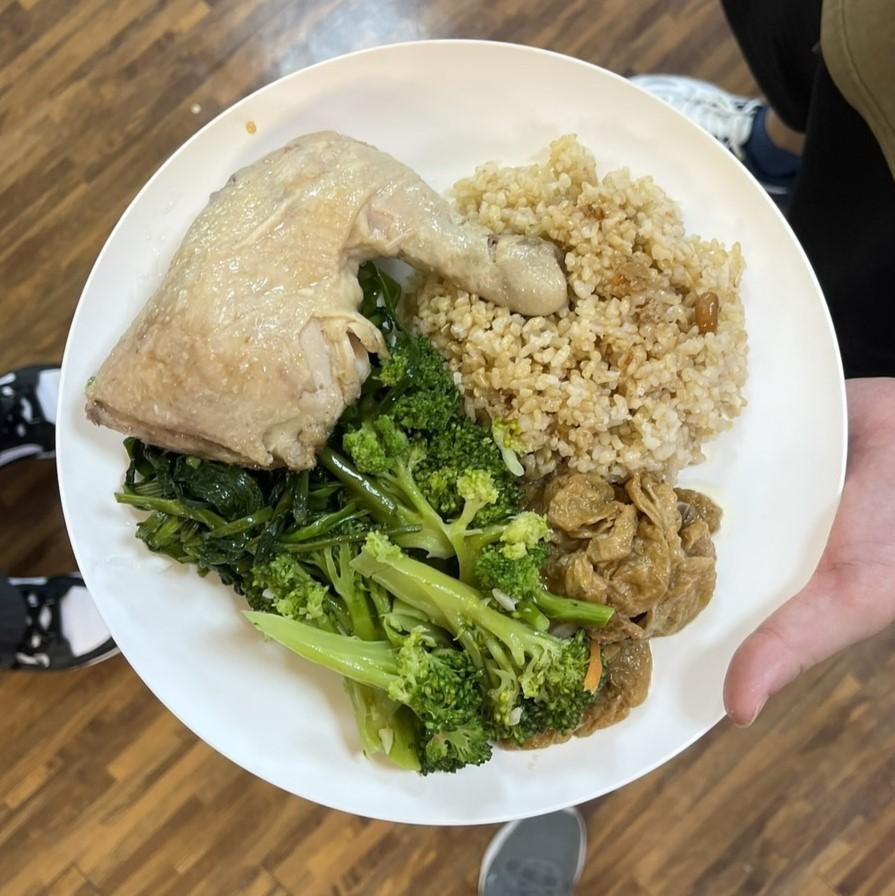big fried chicken leg: (56, 26, 862, 837)
box: (423, 128, 754, 474)
braised fish fillet: (127, 272, 458, 575), (268, 482, 568, 760), (535, 454, 722, 730)
brown rice: (84, 121, 571, 464)
